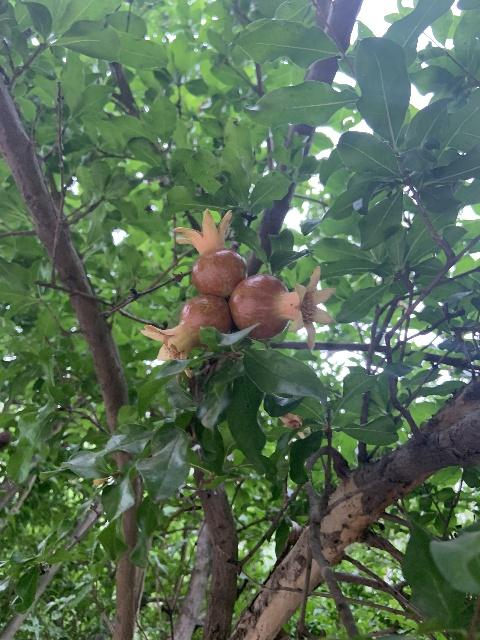early-fruit: (229, 266, 336, 347), (140, 294, 231, 376), (173, 207, 246, 297)
